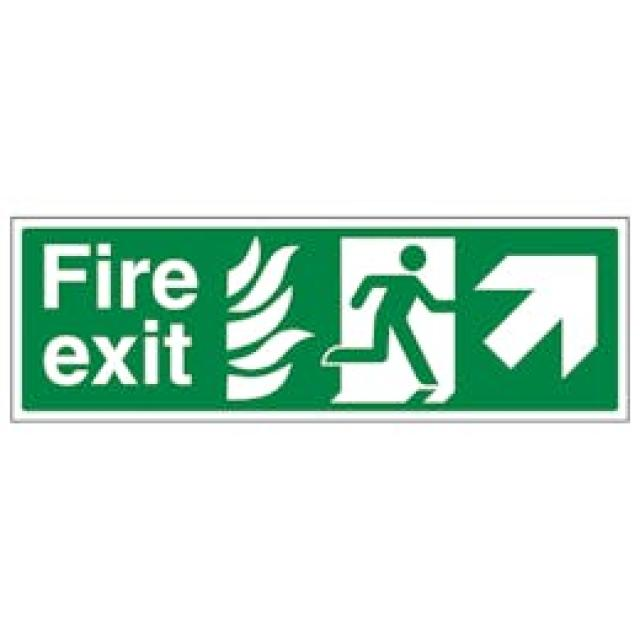exit_sign: (2, 198, 639, 442)
